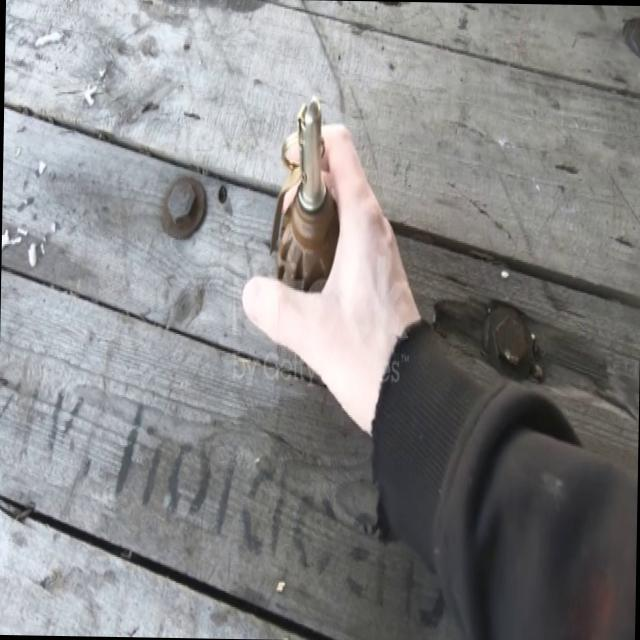grenade: (271, 84, 341, 290)
